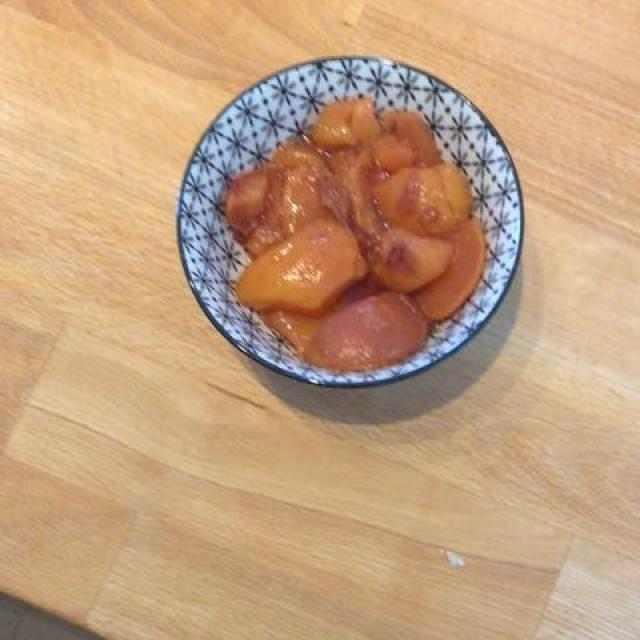peach: (223, 90, 495, 386)
